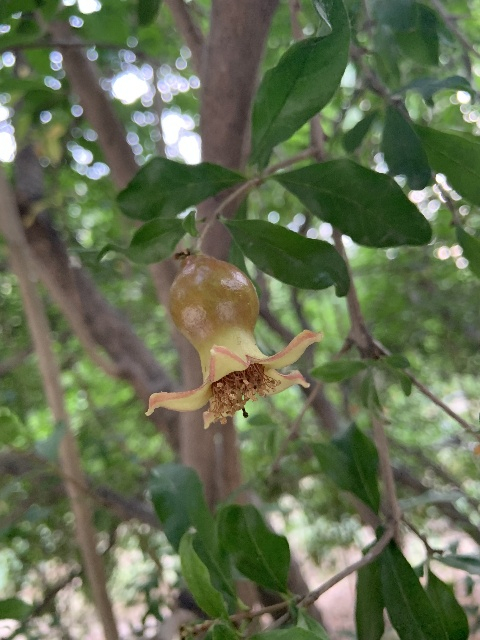early-fruit: (144, 255, 323, 428)
